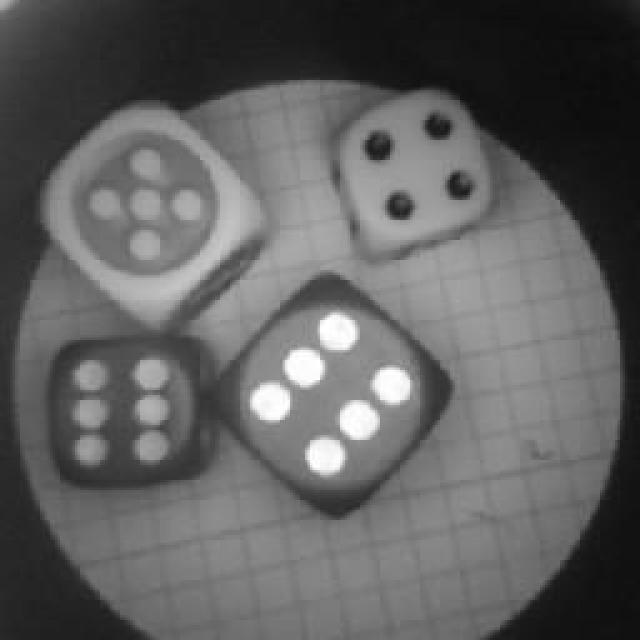dice_4: (338, 90, 490, 242)
dice_5: (40, 90, 260, 312)
dice_6: (212, 272, 448, 518), (38, 328, 202, 490)
